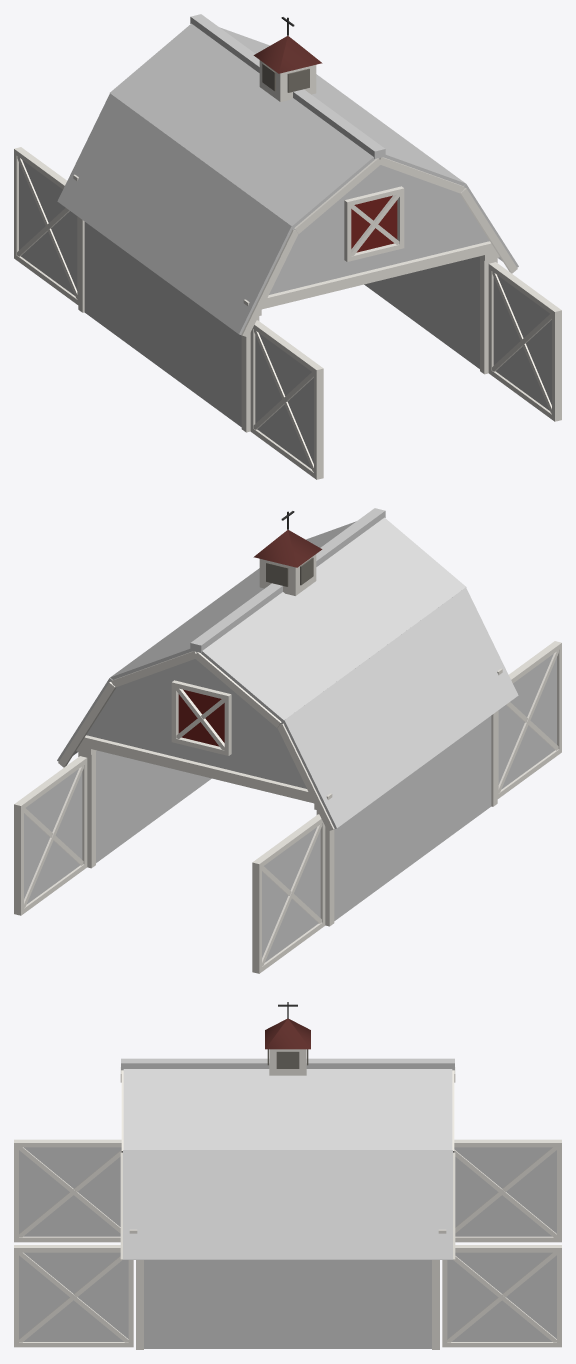
Rendered from barn.glb.
3 renders of one model, top to bottom at view 1: azimuth 30°, elevation 25°; view 2: azimuth 150°, elevation 25°; view 3: azimuth 270°, elevation 25°, orthographic. The views are drawn at different scales.
Visible parts, largest first — view 1: roof-shingles, walls, roof-trim, trim, roof-gables; view 2: roof-shingles, walls, trim, roof-trim, roof-gables; view 3: roof-shingles, walls, trim, roof-trim.
Boxes of the visible parts, x1,y1,x2,y2 form: roof-shingles: (57,14,518,335); walls: (19,160,551,468); roof-trim: (73,17,517,337); trim: (14,147,561,479); roof-gables: (269,165,489,294); roof-shingles: (57,508,518,829); walls: (24,654,556,962); trim: (14,641,561,973); roof-trim: (58,511,502,831); roof-gables: (86,659,306,788); roof-shingles: (121,1058,454,1259); walls: (19,1147,556,1348); trim: (14,1139,561,1349); roof-trim: (120,1002,455,1259).
Bounding box in the file's own units: 11.74 × 12.94 × 22.
